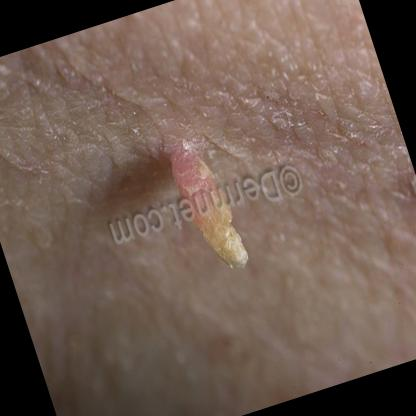Warts: (193, 204, 261, 291)
